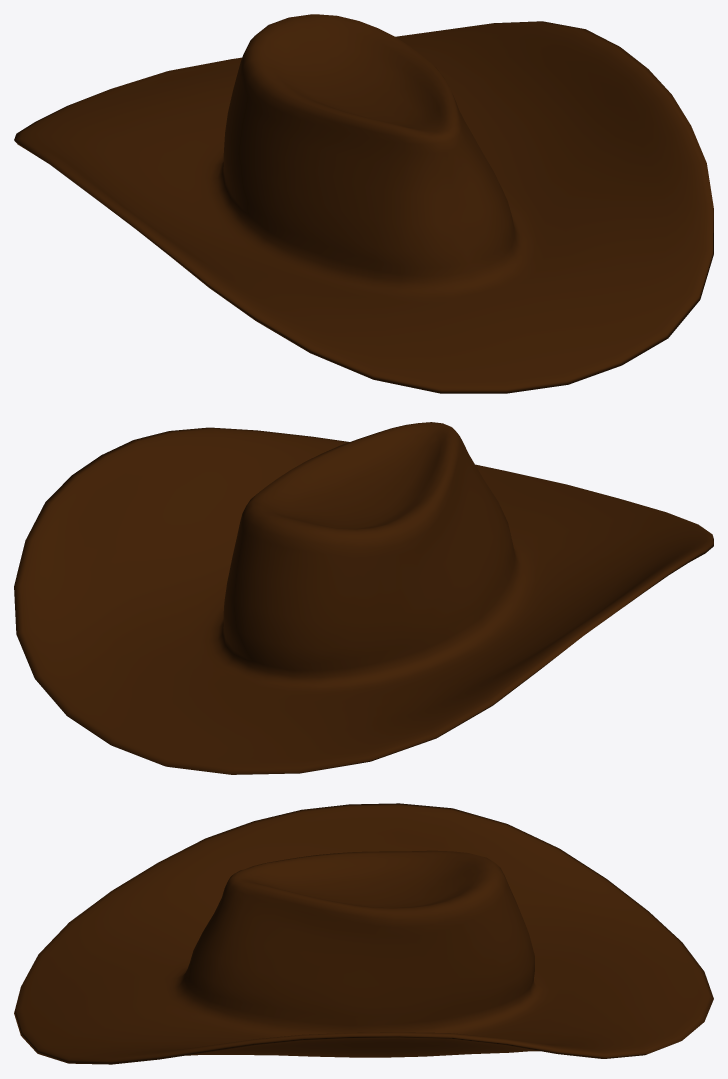
Rendered from Cappello_Cowboy.fbx.
3 views of the same model, one above another, from view 1: azimuth 30°, elevation 25°; view 2: azimuth 150°, elevation 25°; view 3: azimuth 270°, elevation 25° (orthographic). The views are drawn at different scales.
Parts seen in each view (by area): view 1: Hat_Cowboy; view 2: Hat_Cowboy; view 3: Hat_Cowboy.
Boxes of the visible parts, <box> form: Hat_Cowboy: <box>14,14,713,393</box>; Hat_Cowboy: <box>14,422,713,774</box>; Hat_Cowboy: <box>14,803,713,1064</box>.
Size of the model in its own units: 11.4 by 3.3 by 14.53.
